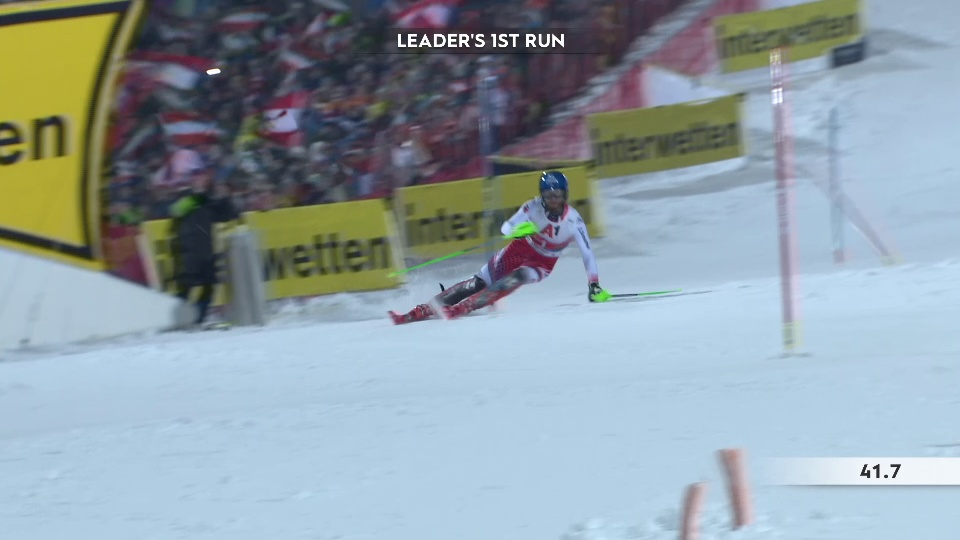a1: (540, 222, 563, 243)
interwetten: (1, 1, 124, 253), (149, 211, 402, 293), (410, 179, 582, 246), (591, 111, 740, 177), (720, 4, 860, 66)
